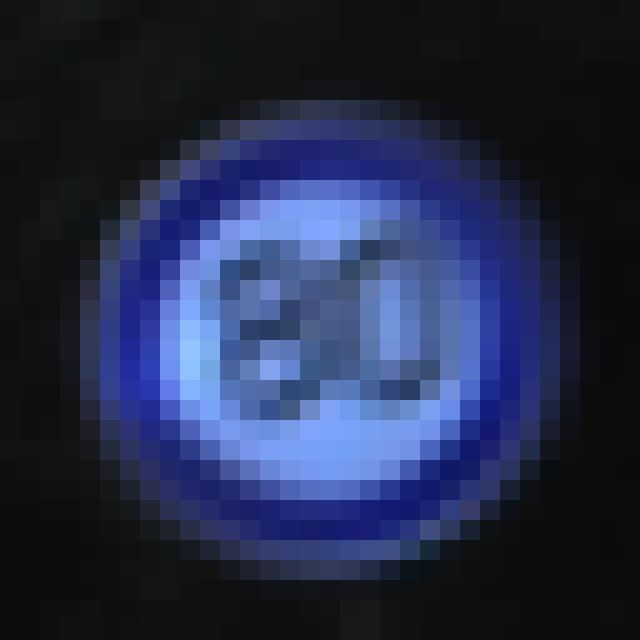SPEED-LIMIT-80: (91, 101, 565, 580)
